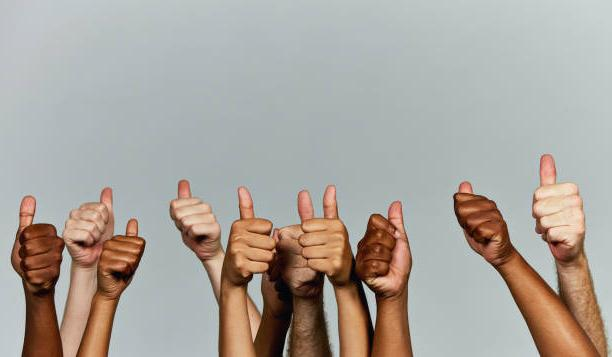thumbsup: (530, 153, 588, 261), (353, 199, 414, 295), (8, 195, 64, 295), (452, 178, 510, 264), (299, 185, 350, 275), (229, 185, 274, 276), (168, 178, 220, 255), (276, 188, 313, 291), (63, 185, 115, 257), (96, 217, 147, 287)
